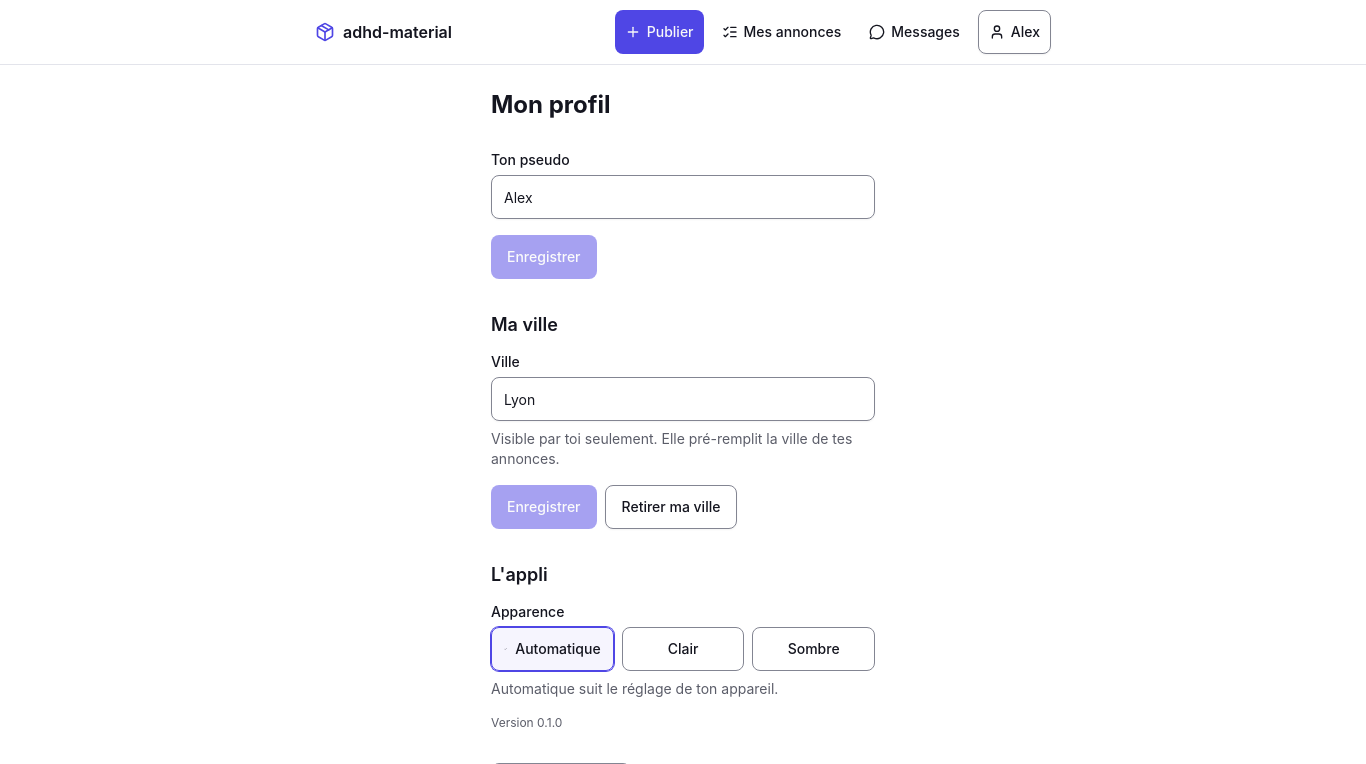
Test case: section « Ma ville » du profil › échec du retrait : erreur affichée et focus rendu au champ
The image size is (1366, 764).
Click the button "Retirer ma ville" at (671, 507), box [604,485,737,529]
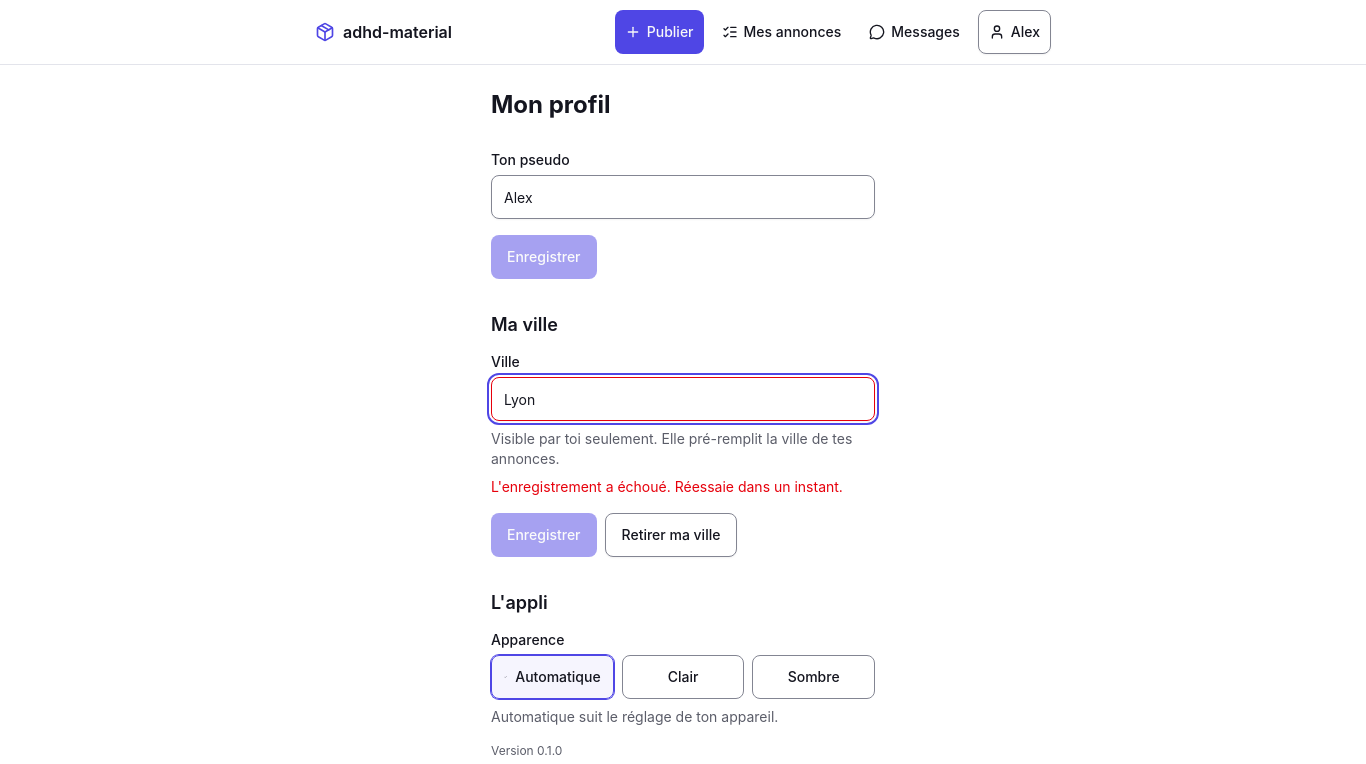
Check: the message shows "L'enregistrement a échoué", box [491,478,843,495]
